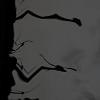faulty: (30, 53, 79, 79)
